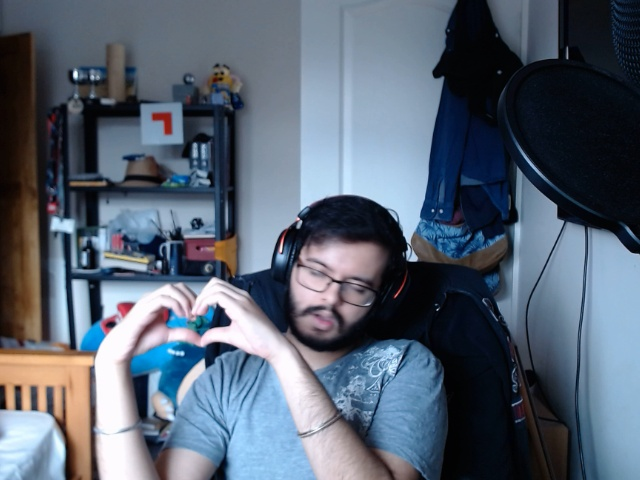Heart: (109, 284, 282, 361)
